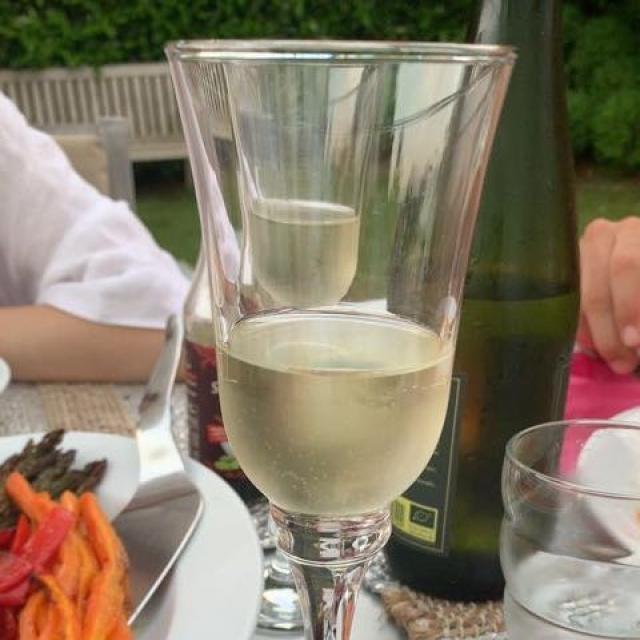wine: (238, 317, 465, 538)
